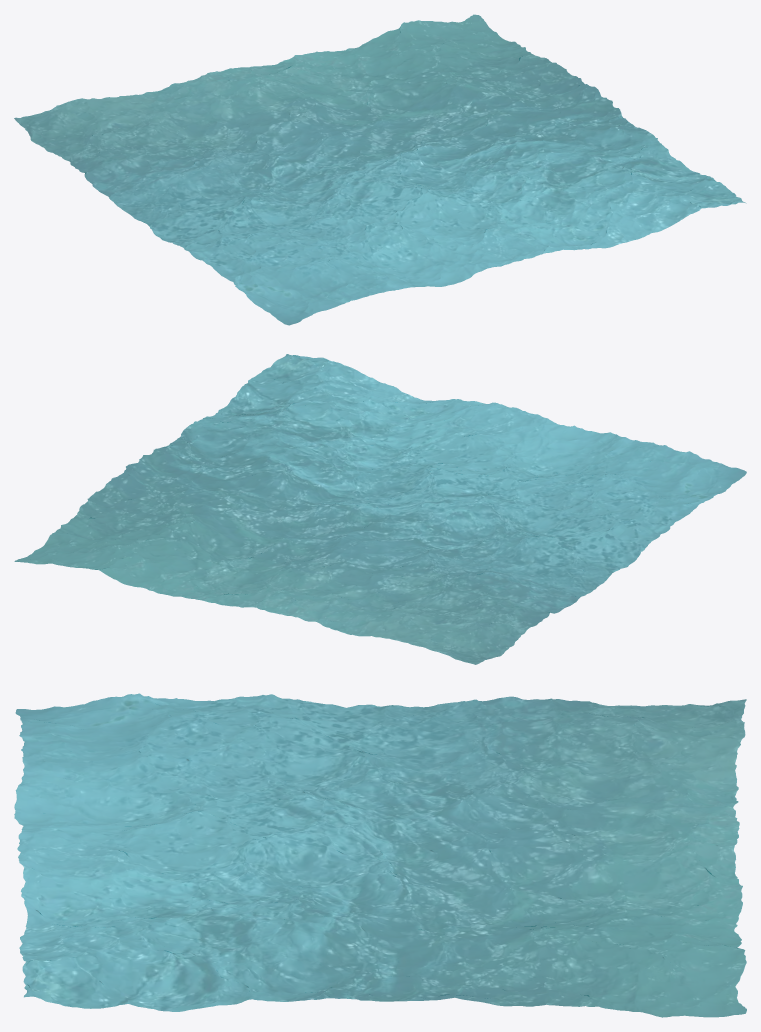
File: ocean_wave.glb
The picture shows the model from 3 angles, top to bottom: view 1: azimuth 30°, elevation 25°; view 2: azimuth 150°, elevation 25°; view 3: azimuth 270°, elevation 25°; orthographic projection. The views are drawn at different scales.
Parts seen in each view (by area): view 1: Wave; view 2: Wave; view 3: Wave.
Boxes of the visible parts, x1,y1,x2,y2 form: Wave: (14, 14, 746, 325); Wave: (14, 354, 746, 664); Wave: (14, 693, 746, 1017).
Bounding box in the file's own units: 205 × 8.54 × 205.
Materials: 1 (1 with a texture image).
